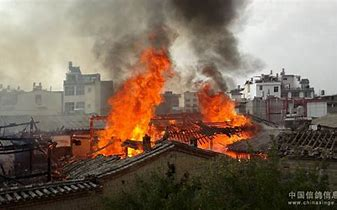fire: (97, 43, 175, 155), (192, 81, 255, 128)
